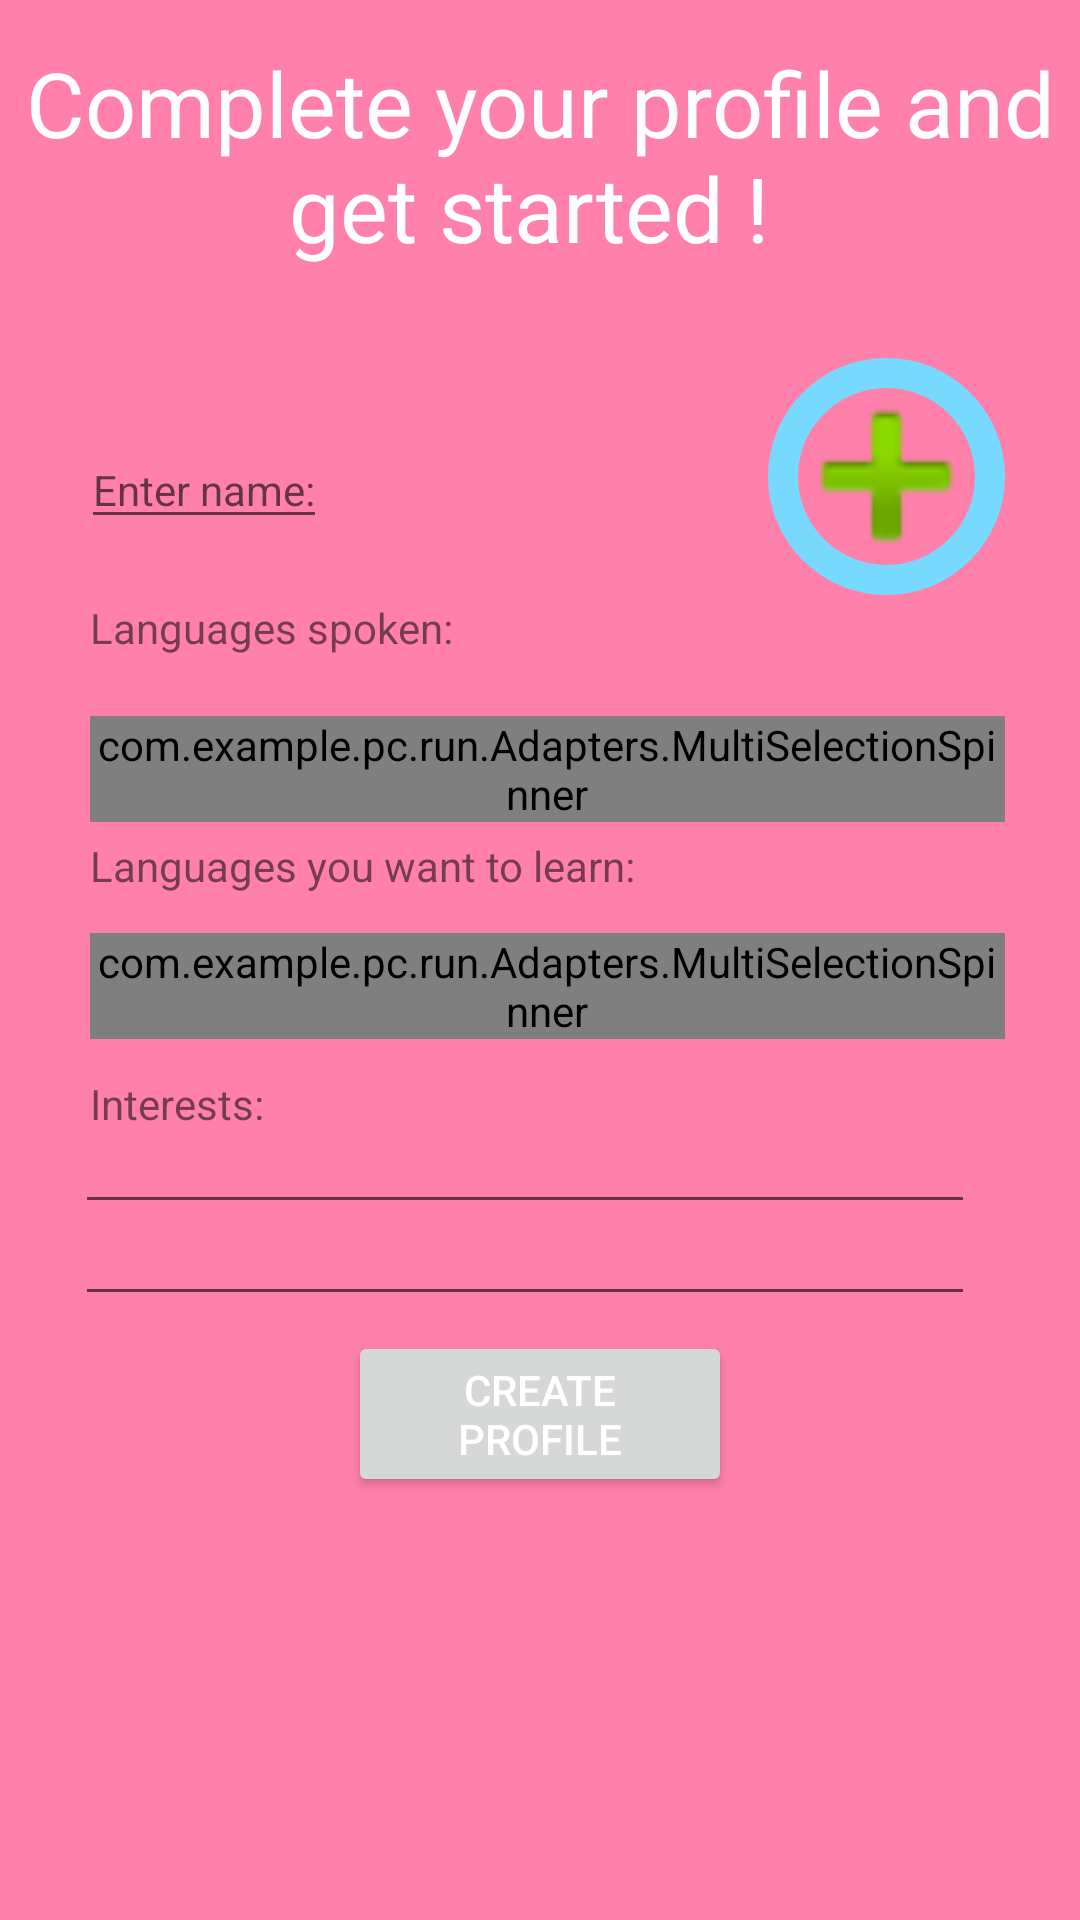

Icons on this 1080 x 1920 Android screen, each with its box as (x1, y1, x2, y2):
add: (768, 358, 1005, 595)
